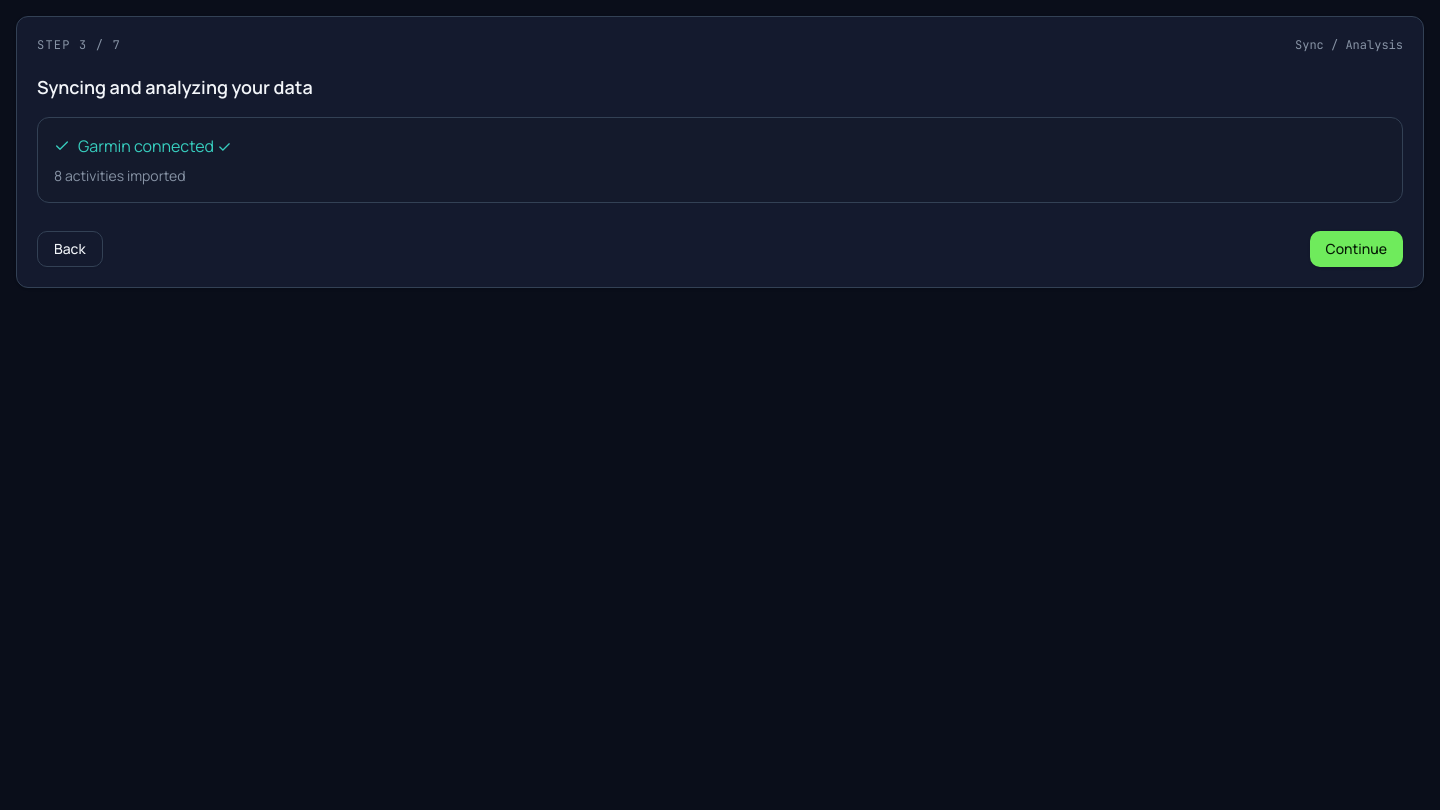
Test: Onboarding trial handoff › eligible trial shows backend trial status and refreshes before final navigation
Earlier steps of the test are not shown.
Later steps or results of the test are not shown.
Expected: the element with test id "onboarding-step-sync" is shown, [37, 73, 1403, 203]
Click the button with test id "onboarding-continue".
click(1356, 249)  # box [1310, 231, 1403, 267]
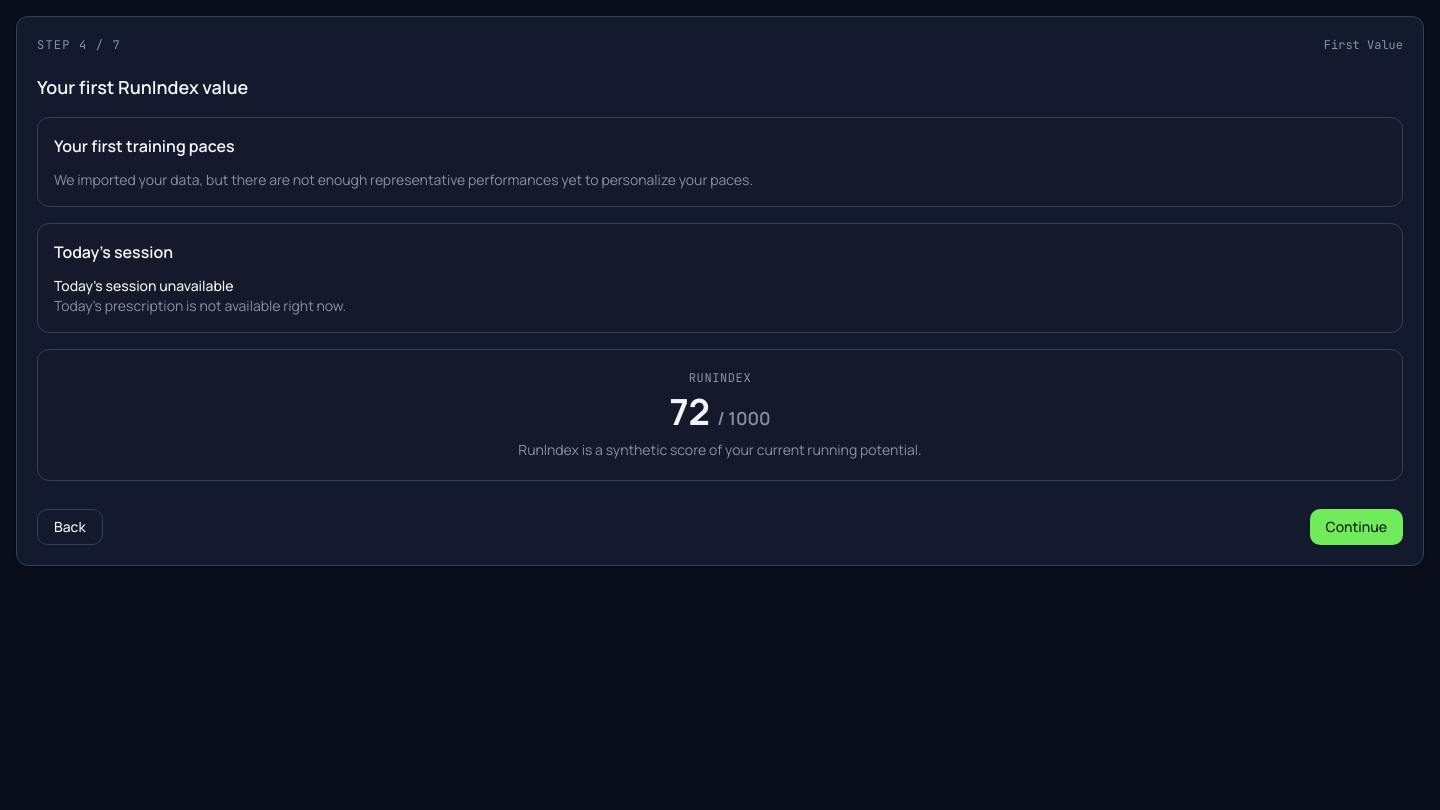
Result: the element with test id "onboarding-step-first-value" is shown at [37, 73, 1403, 481]
Click the button with test id "onboarding-continue".
click(1356, 527)  # box [1310, 509, 1403, 545]
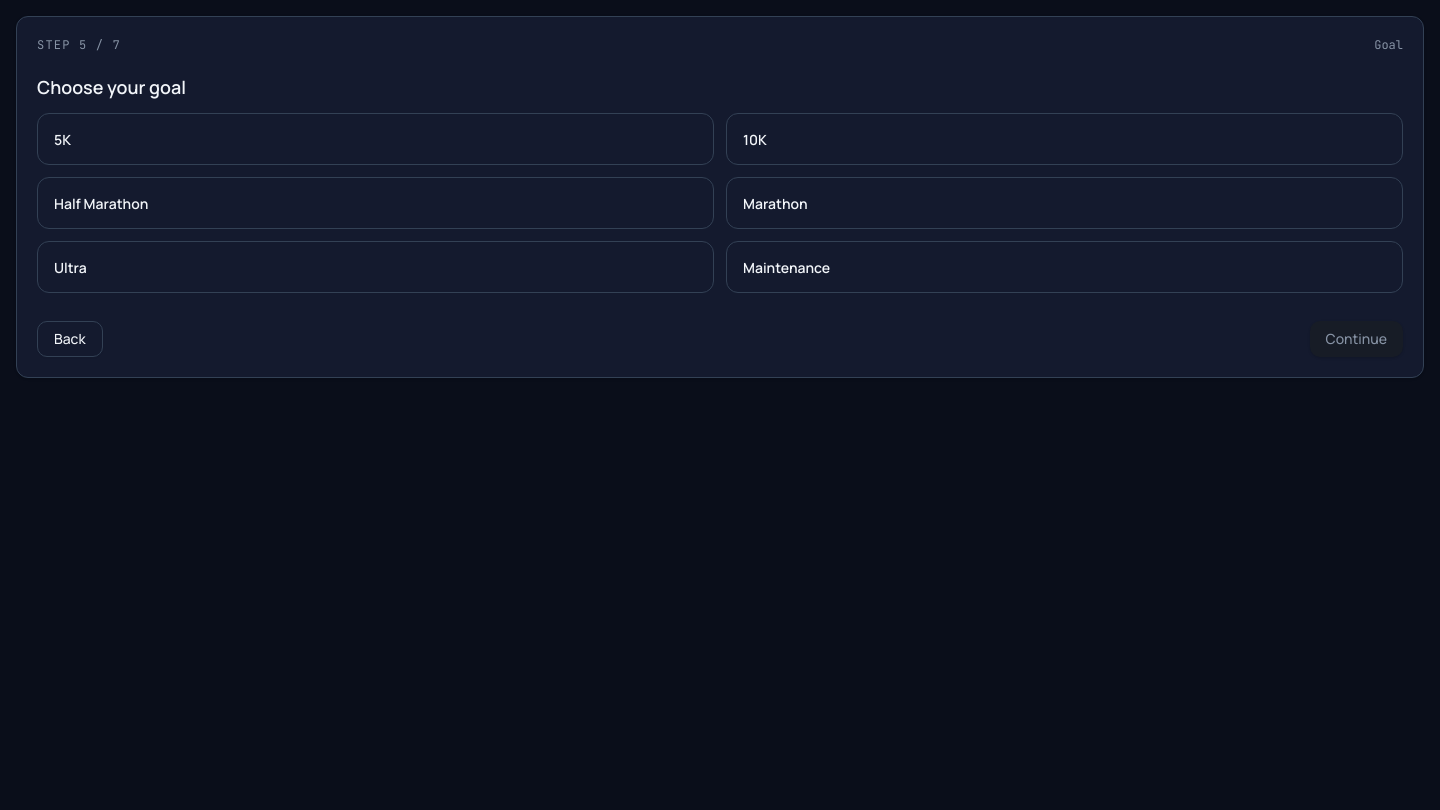
Result: the element with test id "onboarding-step-goal" is shown at [37, 73, 1403, 293]
Click the button with test id "onboarding-goal-5k".
click(62, 140)  # box [37, 113, 714, 165]
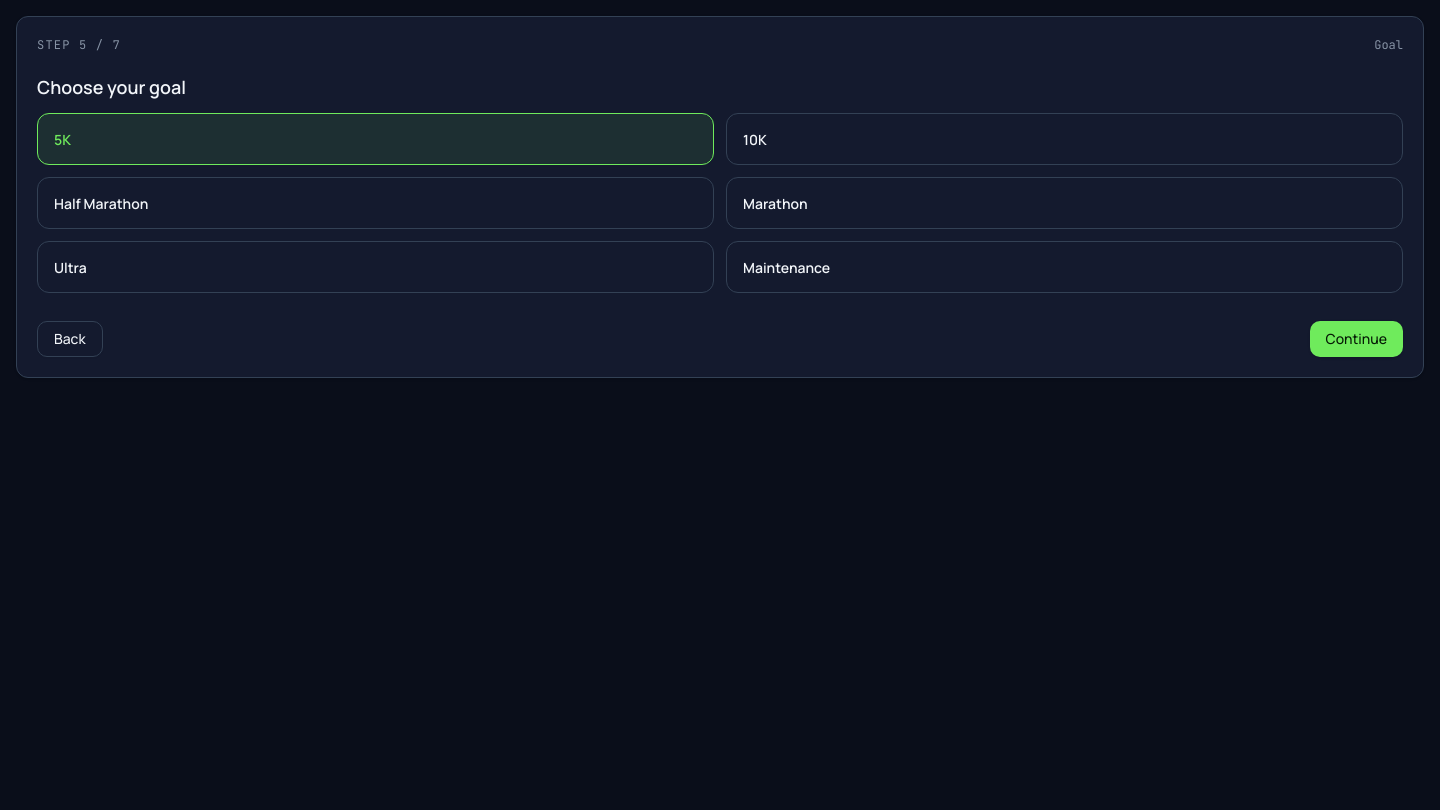
Click the button with test id "onboarding-continue".
click(1356, 339)  # box [1310, 321, 1403, 357]
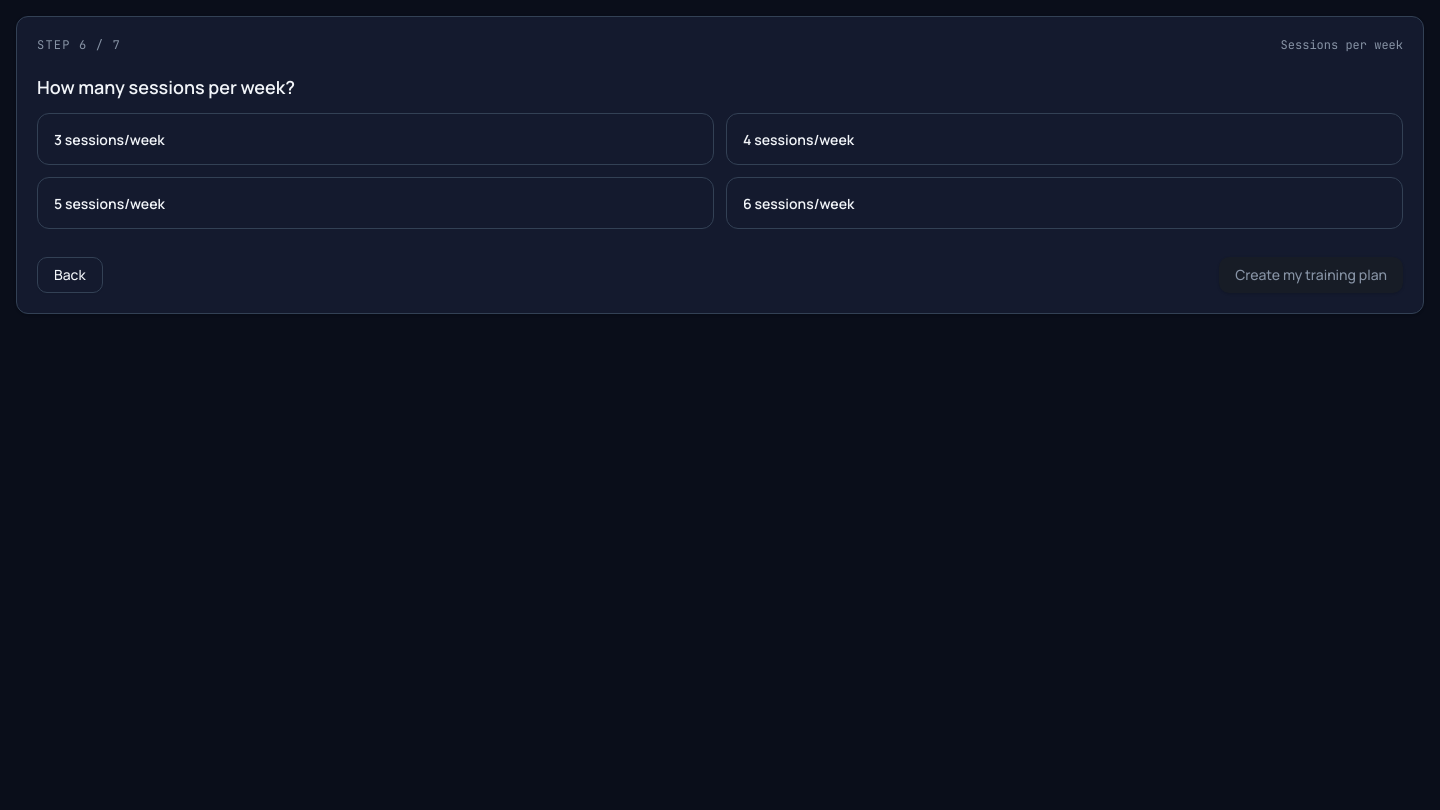
Result: the element with test id "onboarding-step-sessions" is shown at [37, 73, 1403, 229]
Click the button with test id "onboarding-sessions-3".
click(109, 140)  # box [37, 113, 714, 165]
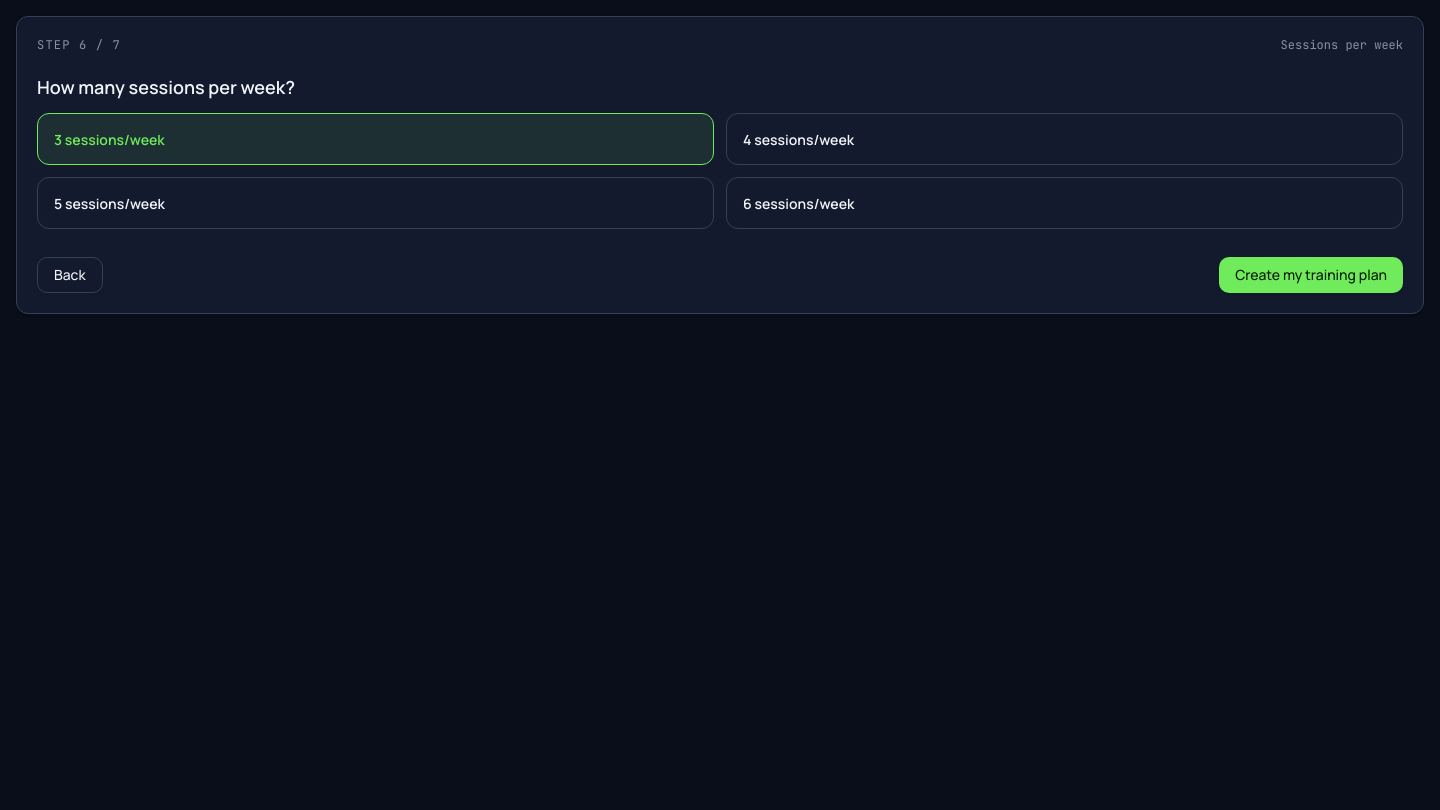
Click the button with test id "onboarding-continue".
click(1311, 275)  # box [1219, 257, 1403, 293]
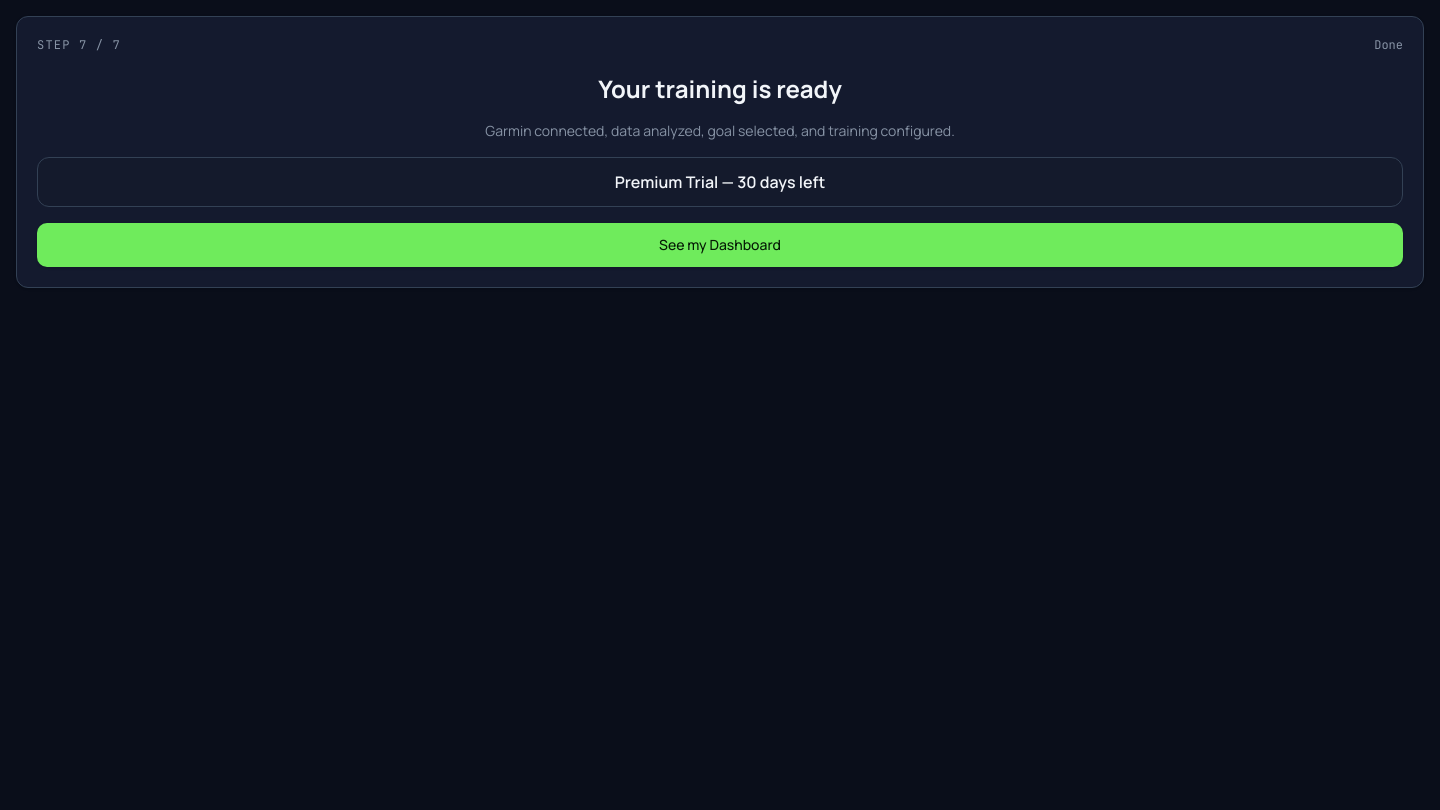
Result: the element with test id "onboarding-step-done" is shown at [37, 73, 1403, 267]
Result: the text with test id "onboarding-subscription-status" reads "Premium Trial — 30 days left" at [615, 171, 825, 193]
